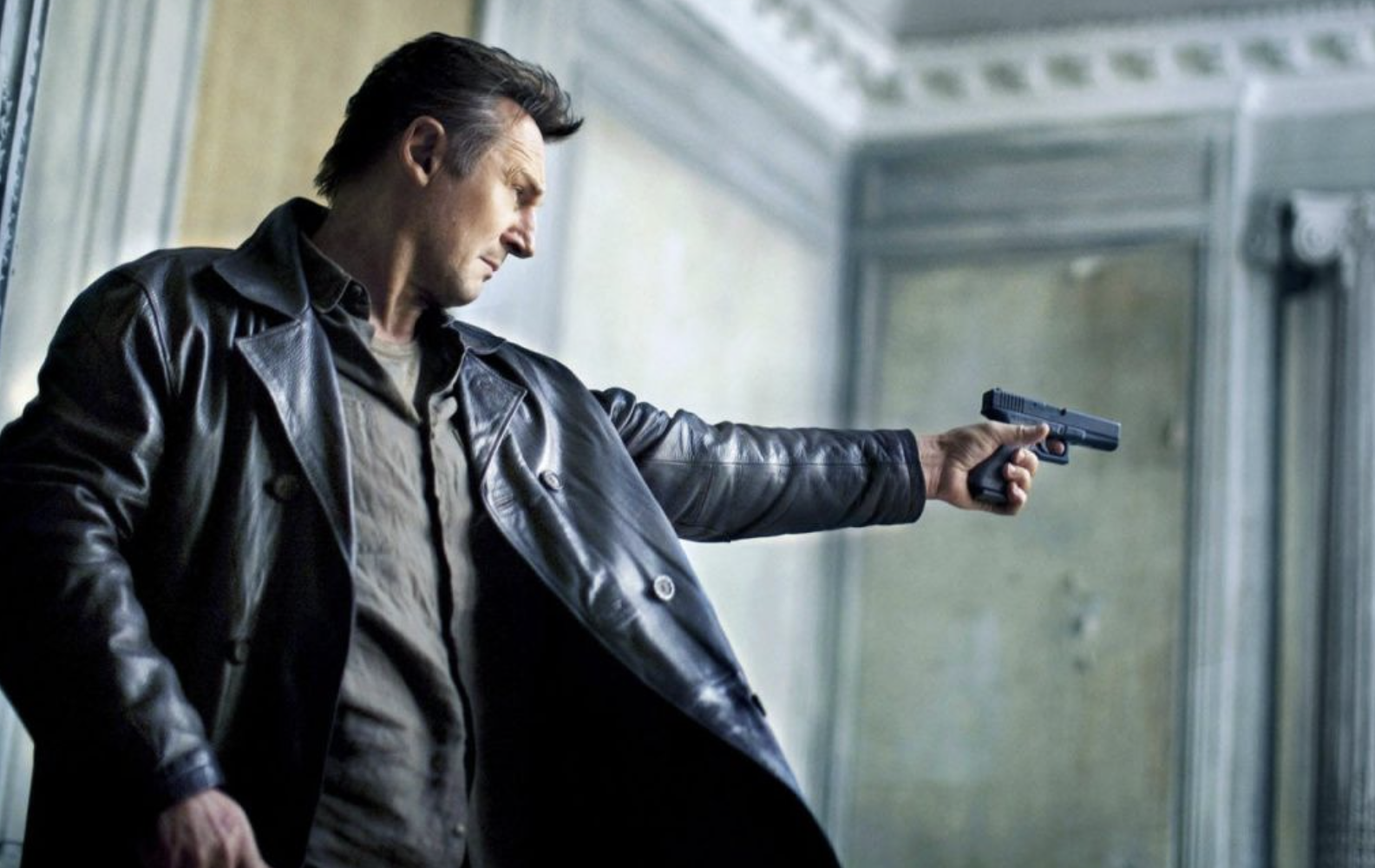gun_006: (962, 381, 1132, 511)
